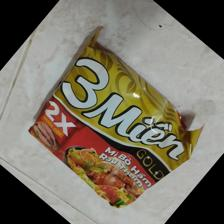3mien: (26, 30, 205, 208)
